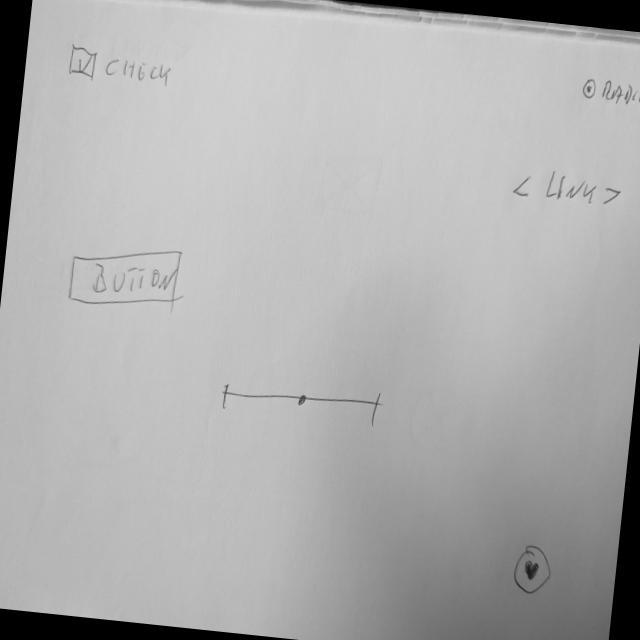button: (66, 236, 186, 317)
checkbox: (64, 41, 177, 94)
icon-button: (510, 542, 556, 600)
link: (510, 165, 626, 216)
radio: (579, 72, 640, 108)
slider: (219, 370, 386, 427)
